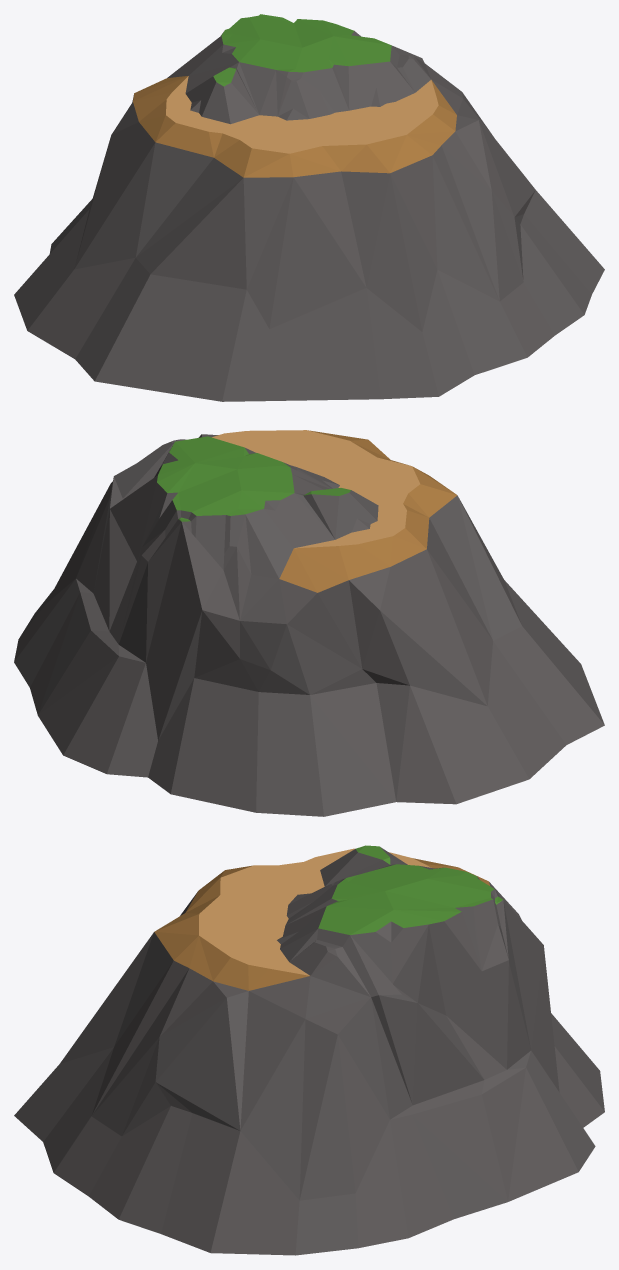
File: terrains-island-tiny.glb
3 views of the same model, one above another, from view 1: azimuth 30°, elevation 25°; view 2: azimuth 150°, elevation 25°; view 3: azimuth 270°, elevation 25° (orthographic). The views are drawn at different scales.
Visible parts, largest first — view 1: island-tiny; view 2: island-tiny; view 3: island-tiny.
Boxes of the visible parts, x1,y1,x2,y2 form: island-tiny: [14, 14, 604, 401]; island-tiny: [14, 430, 604, 816]; island-tiny: [14, 845, 604, 1255].
Bounding box in the file's own units: 99.94 × 41.6 × 92.27.
